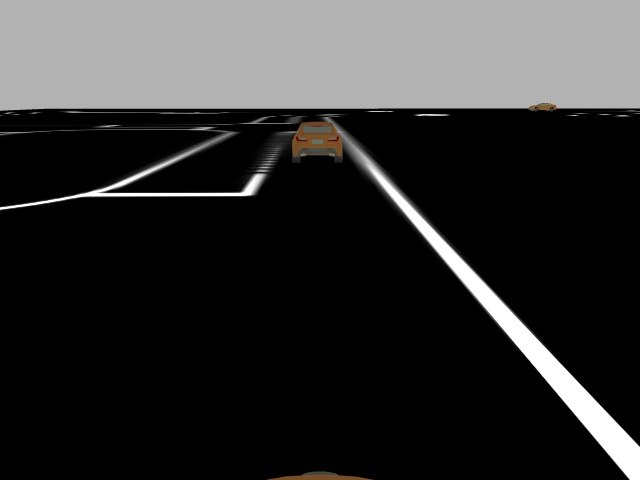obstacle_car: (290, 120, 345, 164)
